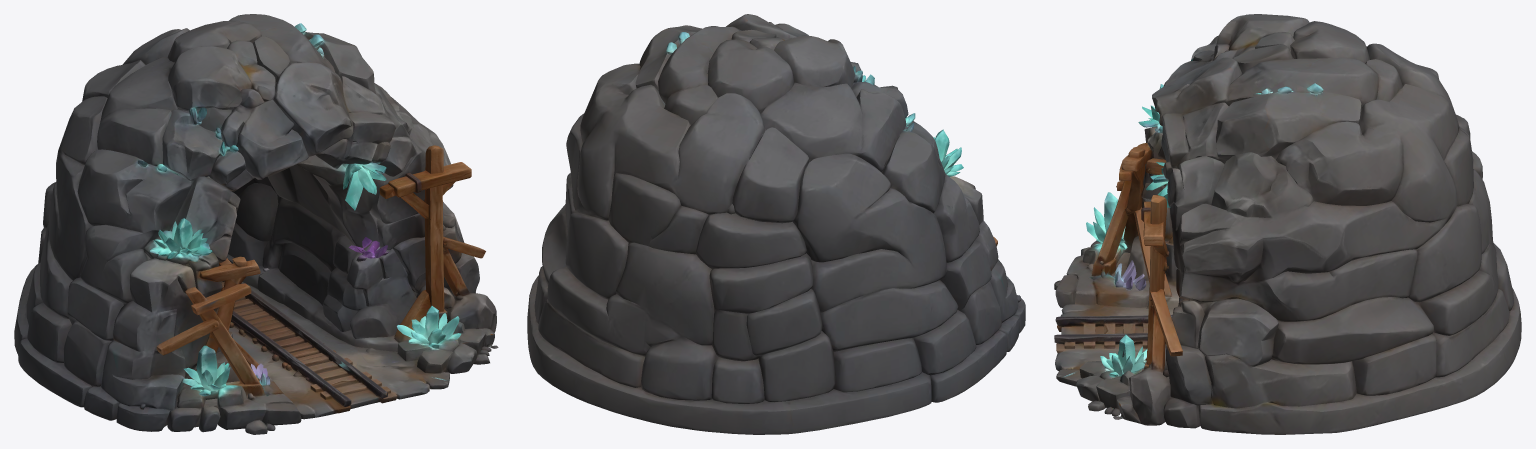
The model's file is cave-cartoon-desktop.glb.
3 views of the same model, side by side, from view 1: azimuth 30°, elevation 25°; view 2: azimuth 150°, elevation 25°; view 3: azimuth 270°, elevation 25° (orthographic). The views are drawn at different scales.
Visible parts, largest first — view 1: model; view 2: model; view 3: model.
Boxes of the visible parts, bbox=[...] form: model: bbox=[14, 14, 498, 434]; model: bbox=[527, 14, 1025, 434]; model: bbox=[1054, 14, 1521, 434].
Size of the model in its own units: 1.9 by 1.3 by 1.82.
1 material, 1 textured.
